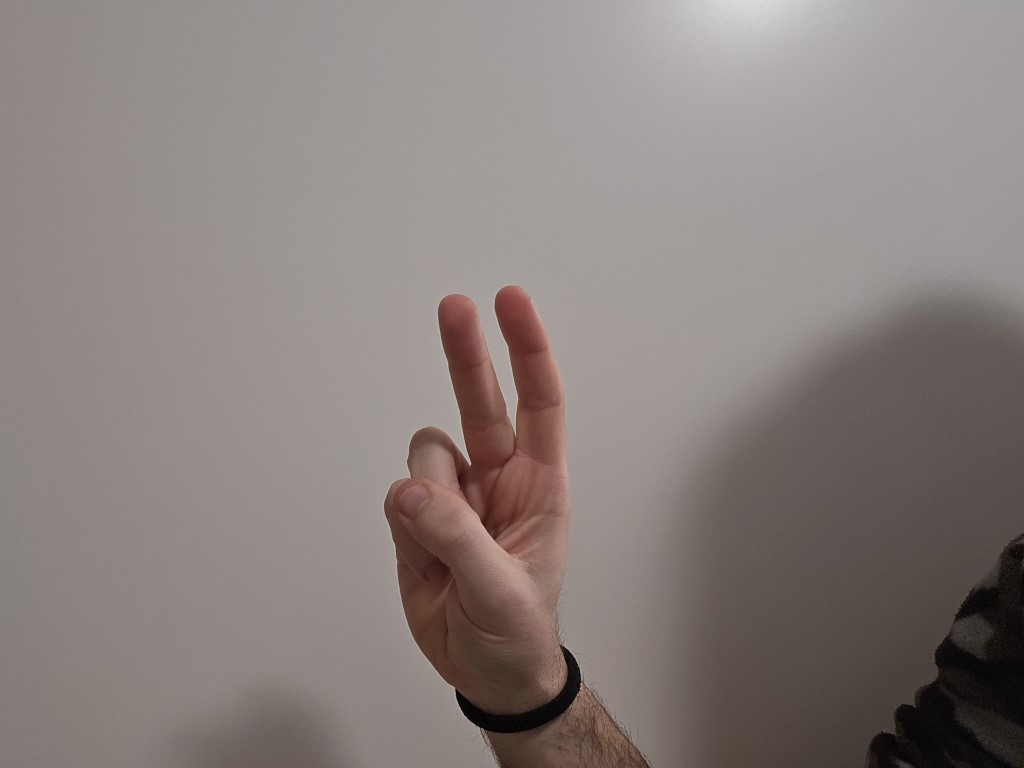r: (325, 279, 604, 667)
